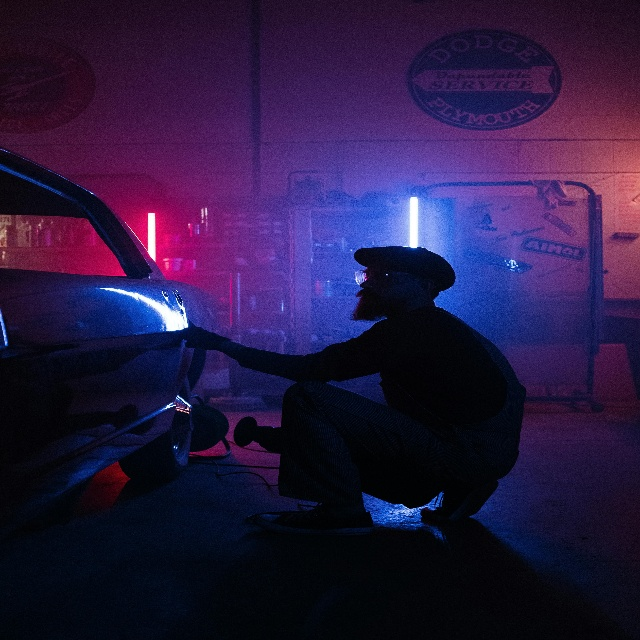Gafas: (355, 269, 370, 286)
